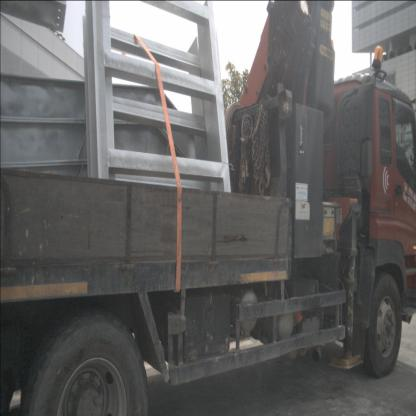vehicle-truck: (0, 76, 416, 416)
